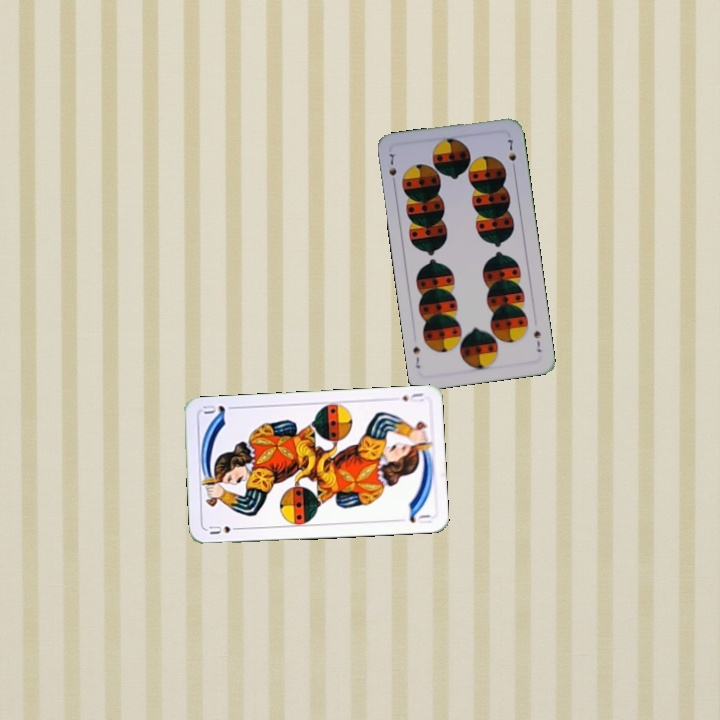S7: (385, 149, 399, 188), (530, 326, 544, 355)
SU: (205, 522, 244, 537), (398, 389, 426, 405)
